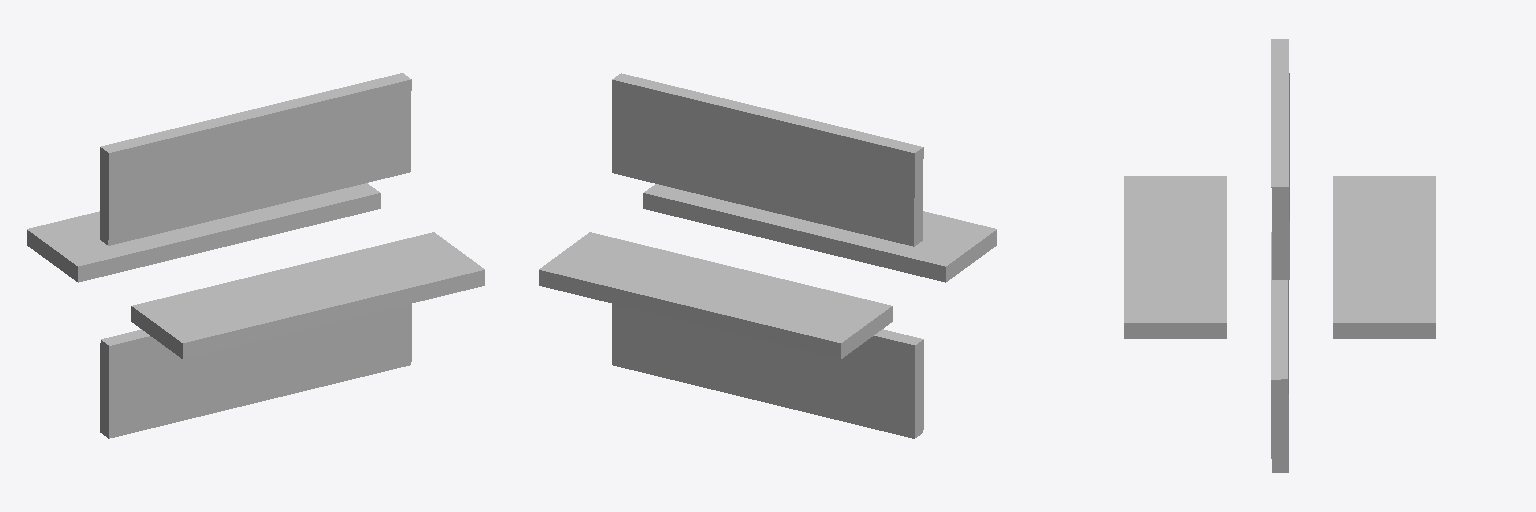
Rendered from cross.obj.
The picture shows the model from 3 angles: view 1: azimuth 30°, elevation 25°; view 2: azimuth 150°, elevation 25°; view 3: azimuth 270°, elevation 25°; orthographic projection.
Parts seen in each view (by area): view 1: Cube.003, Cube.002, Cube, Cube.001; view 2: Cube.003, Cube.002, Cube.001, Cube; view 3: Cube, Cube.001, Cube.003, Cube.002.
Part boxes in pixels (x1,y1,x2,y2): Cube.003: (100, 73, 411, 245); Cube.002: (100, 304, 411, 438); Cube: (131, 232, 484, 358); Cube.001: (27, 183, 380, 282); Cube.003: (612, 73, 923, 246); Cube.002: (612, 304, 923, 438); Cube.001: (539, 232, 892, 358); Cube: (643, 184, 996, 282); Cube: (1124, 176, 1226, 338); Cube.001: (1333, 176, 1435, 338); Cube.003: (1271, 39, 1289, 279); Cube.002: (1271, 232, 1288, 472).
Size of the model in its own units: 2 by 1.8 by 1.79.